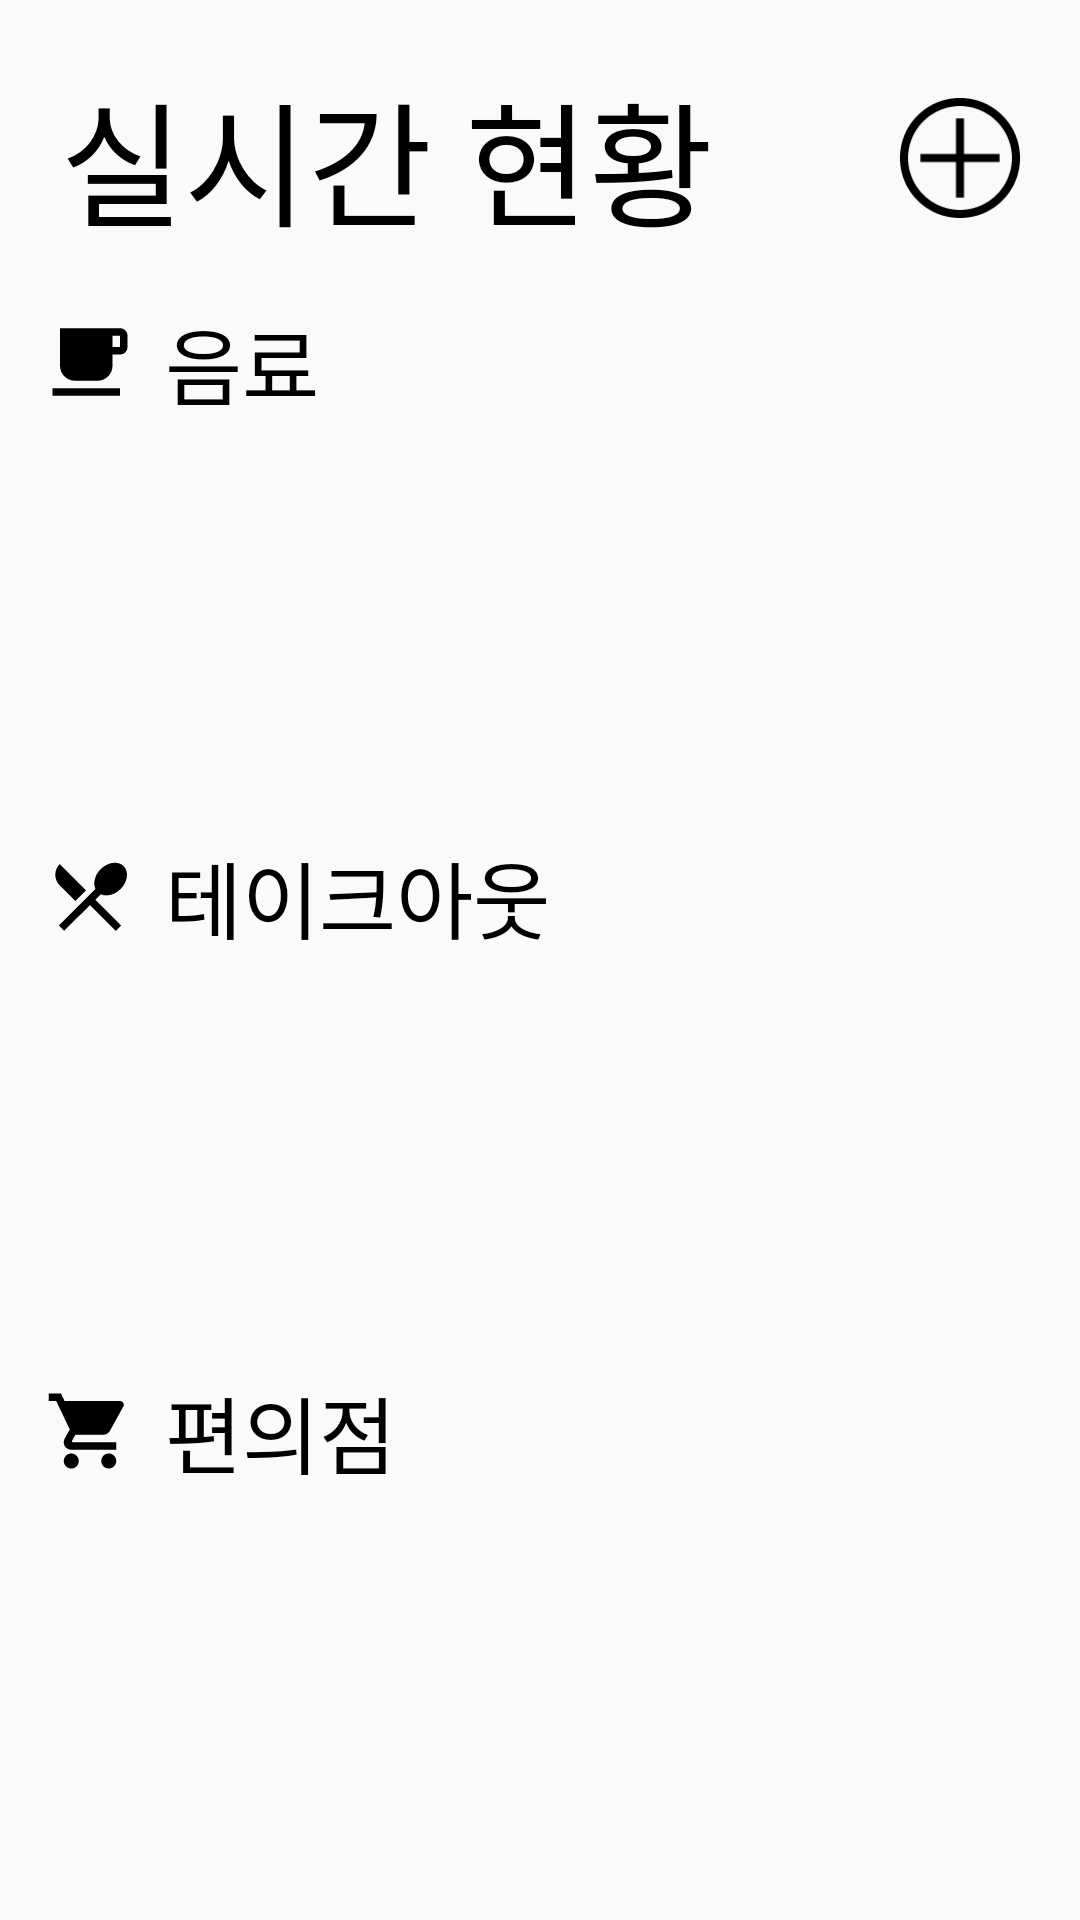

Where to tap for icons on this 1080px×1920px app screen, as [x,y]:
cafe: [90,362]
conveni: [86,1431]
plus: [960,158]
togo: [91,896]
